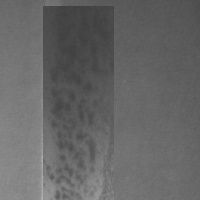pitted_surface: (43, 6, 114, 200)
scratches: (38, 10, 62, 199)
